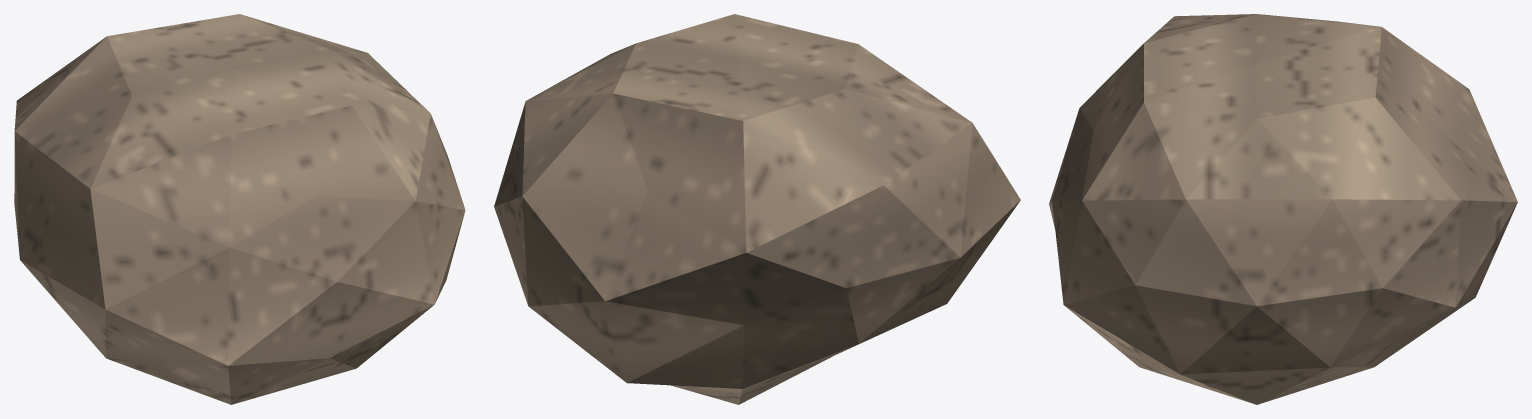
The model's file is boulderSmall.glb.
The picture shows the model from 3 angles, left to right: view 1: azimuth 30°, elevation 25°; view 2: azimuth 150°, elevation 25°; view 3: azimuth 270°, elevation 25°; orthographic projection. The views are drawn at different scales.
Parts seen in each view (by area): view 1: boulderSmall; view 2: boulderSmall; view 3: boulderSmall.
Part boxes in pixels (<box>): boulderSmall: <box>14,14,465,404</box>; boulderSmall: <box>494,14,1020,404</box>; boulderSmall: <box>1049,14,1517,404</box>.
Bounding box in the file's own units: 1.06 × 0.7972 × 0.9976.
1 material, 1 textured.
